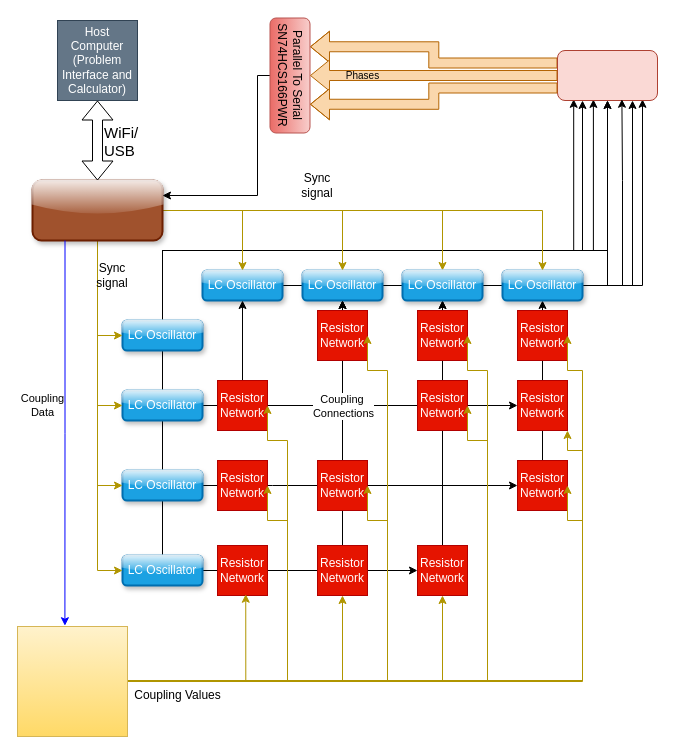
Some shapes in this 675 by 754 pixel diagram are drawn without their labels. The centre of each missing label's shape, as x and y in pixels:
ESP32: [98,211]
MAX14662: [72,681]
Window Detector TPS3701DDCT: [607,75]
